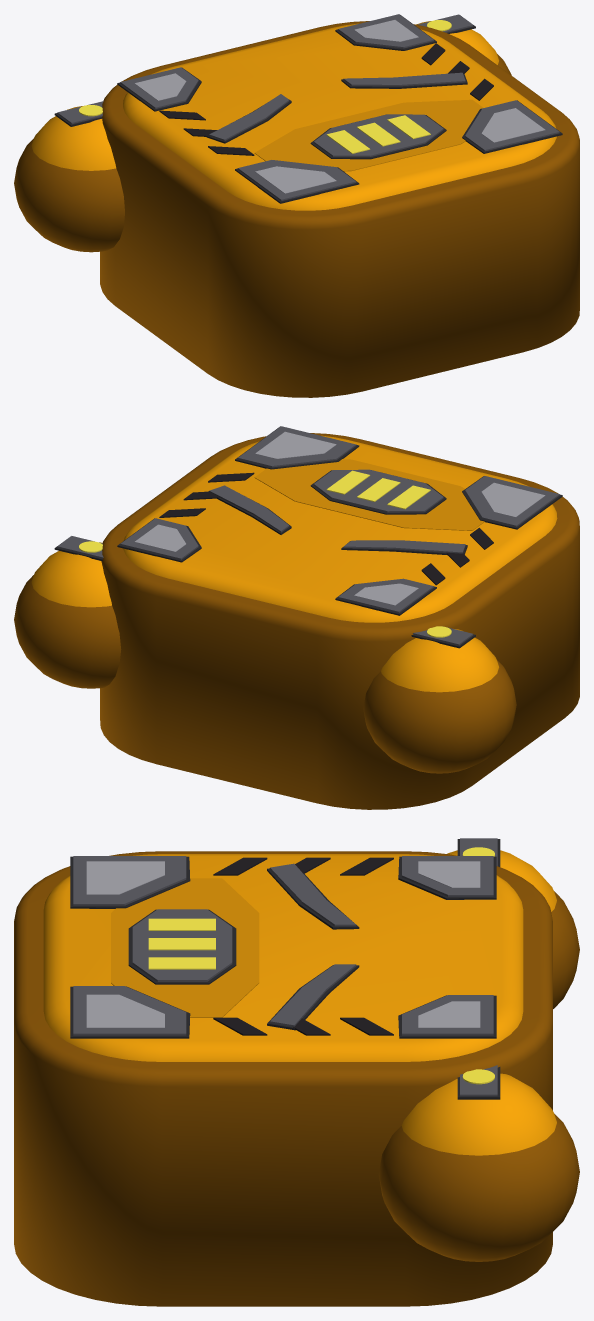
The model's file is body_bloco_perigo.fbx.
3 renders of one model, top to bottom at view 1: azimuth 30°, elevation 25°; view 2: azimuth 150°, elevation 25°; view 3: azimuth 270°, elevation 25°, orthographic. The views are drawn at different scales.
Visible parts, largest first — view 1: body_bloco_perigo_corpo, body_bloco_perigo_mao_esq, body_bloco_perigo_corpo_neon, body_bloco_perigo_mao; view 2: body_bloco_perigo_corpo, body_bloco_perigo_mao_esq, body_bloco_perigo_mao, body_bloco_perigo_corpo_neon; view 3: body_bloco_perigo_corpo, body_bloco_perigo_mao, body_bloco_perigo_mao_esq, body_bloco_perigo_corpo_neon.
Part boxes in pixels (x1,y1,x2,y2): body_bloco_perigo_corpo: [100, 14, 579, 397]; body_bloco_perigo_mao_esq: [14, 101, 124, 252]; body_bloco_perigo_corpo_neon: [326, 115, 430, 153]; body_bloco_perigo_mao: [416, 14, 511, 75]; body_bloco_perigo_corpo: [100, 426, 579, 809]; body_bloco_perigo_mao_esq: [363, 626, 516, 773]; body_bloco_perigo_mao: [14, 536, 121, 688]; body_bloco_perigo_corpo_neon: [326, 470, 430, 509]; body_bloco_perigo_corpo: [14, 851, 552, 1306]; body_bloco_perigo_mao: [378, 1065, 579, 1261]; body_bloco_perigo_mao_esq: [447, 838, 579, 1008]; body_bloco_perigo_corpo_neon: [148, 918, 215, 969].
Size of the model in its own units: 5.4 by 2.04 by 4.2.
Materials: 1 (1 with a texture image).
